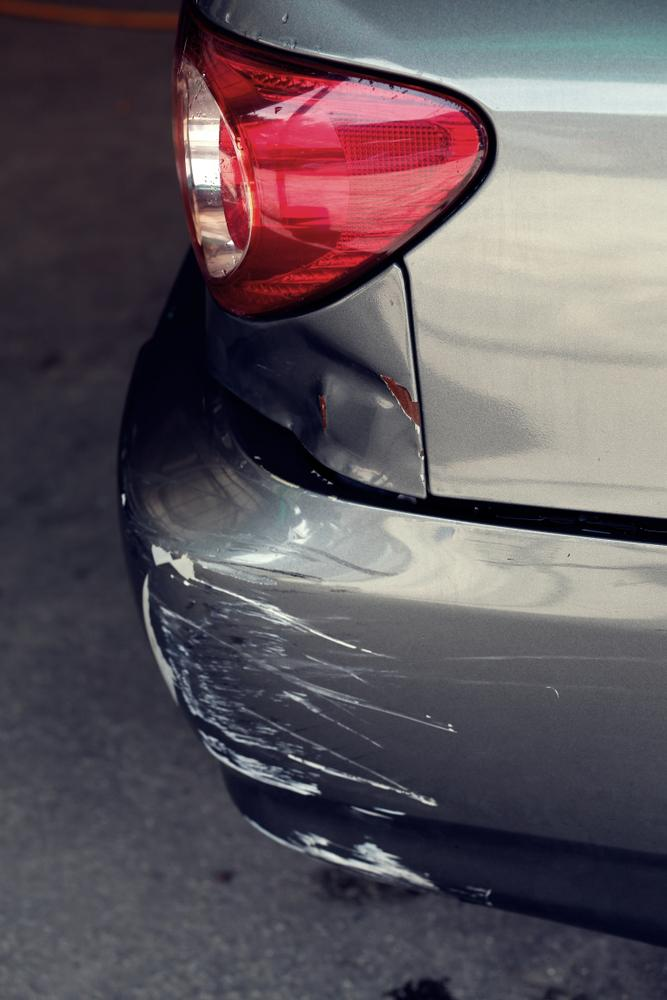dent: (215, 315, 421, 493)
scratch: (135, 525, 667, 891)
